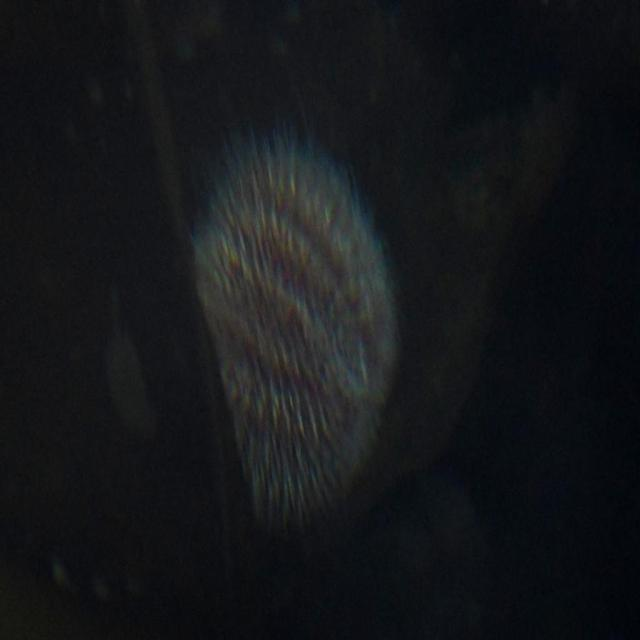Deniz Kestanesi: (185, 123, 398, 528)
